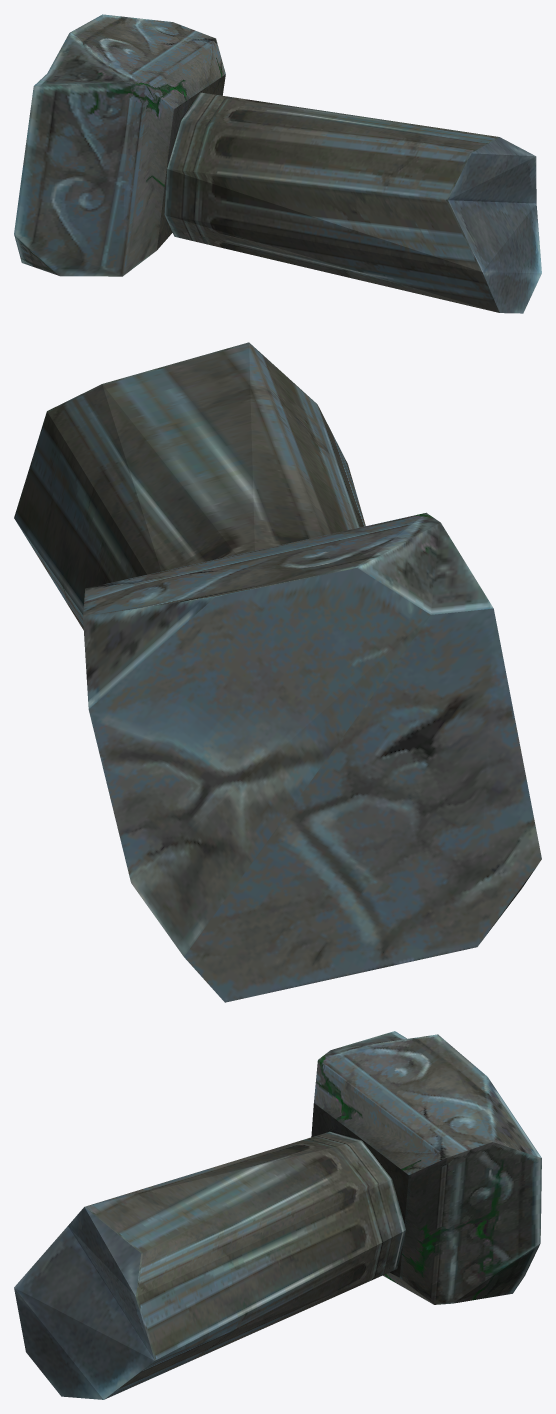
Rendered from stemple_pillar_04.fbx.
3 renders of one model, top to bottom at view 1: azimuth 30°, elevation 25°; view 2: azimuth 150°, elevation 25°; view 3: azimuth 270°, elevation 25°, orthographic. The views are drawn at different scales.
Parts seen in each view (by area): view 1: obj1.056; view 2: obj1.056; view 3: obj1.056.
Part boxes in pixels (bbox=[...]): obj1.056: bbox=[14, 14, 541, 313]; obj1.056: bbox=[14, 342, 541, 1002]; obj1.056: bbox=[14, 1031, 541, 1399].
Size of the model in its own units: 3.84 by 2.05 by 4.11.
